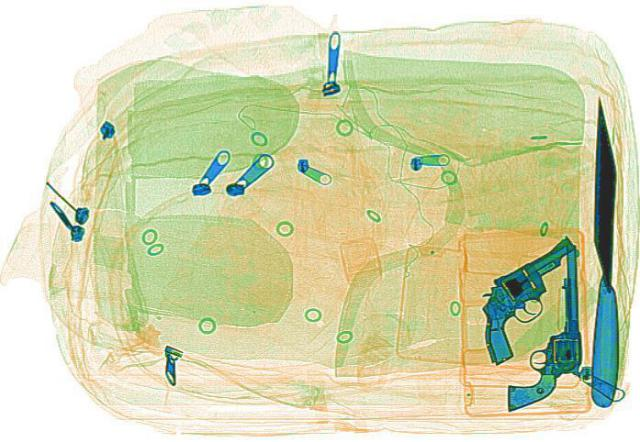Gun: (424, 235, 638, 364), (501, 242, 581, 409)
Knife: (586, 96, 618, 404)
